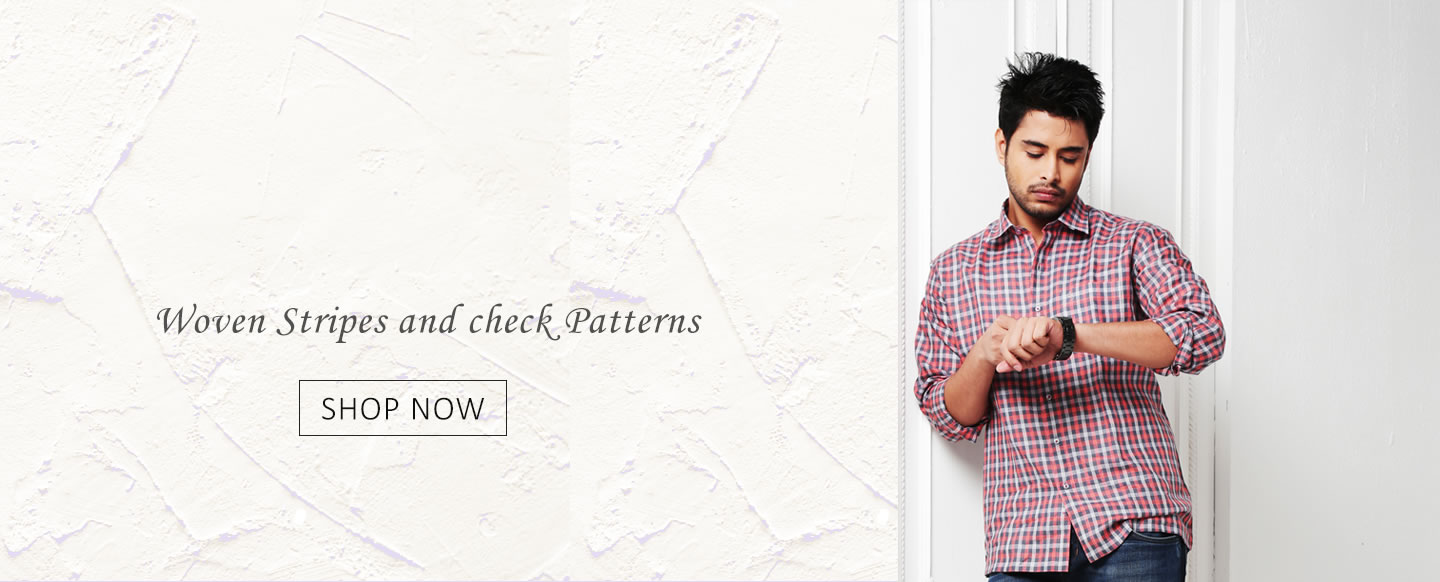NOTSAFE: (969, 51, 1171, 537)
